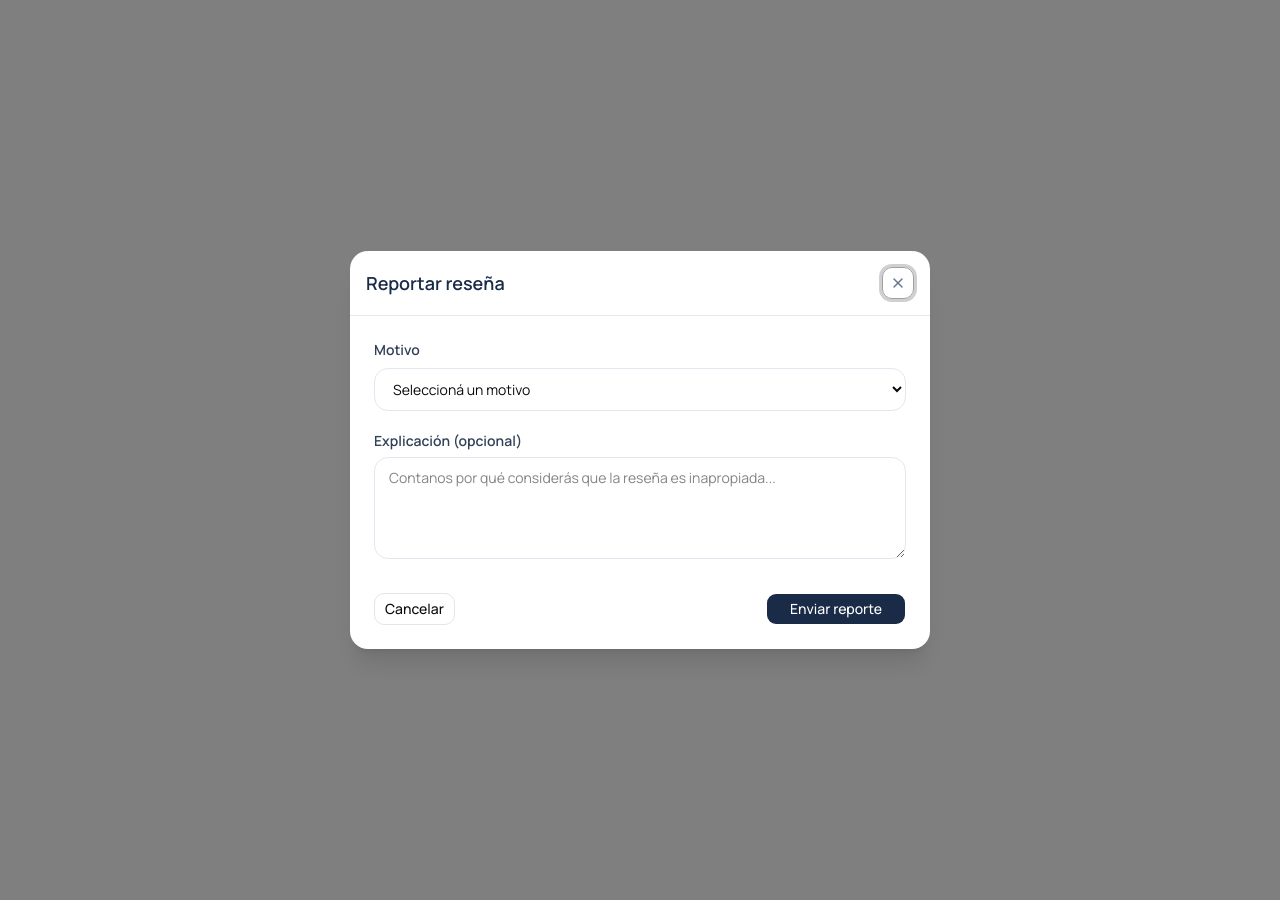
it: ReportReviewModal › should show safe retry feedback for server status 400
Select "Datos personales" in the dropdown labelled "Motivo". click: coordinates (640, 390)
box: 374,368 -> 906,411
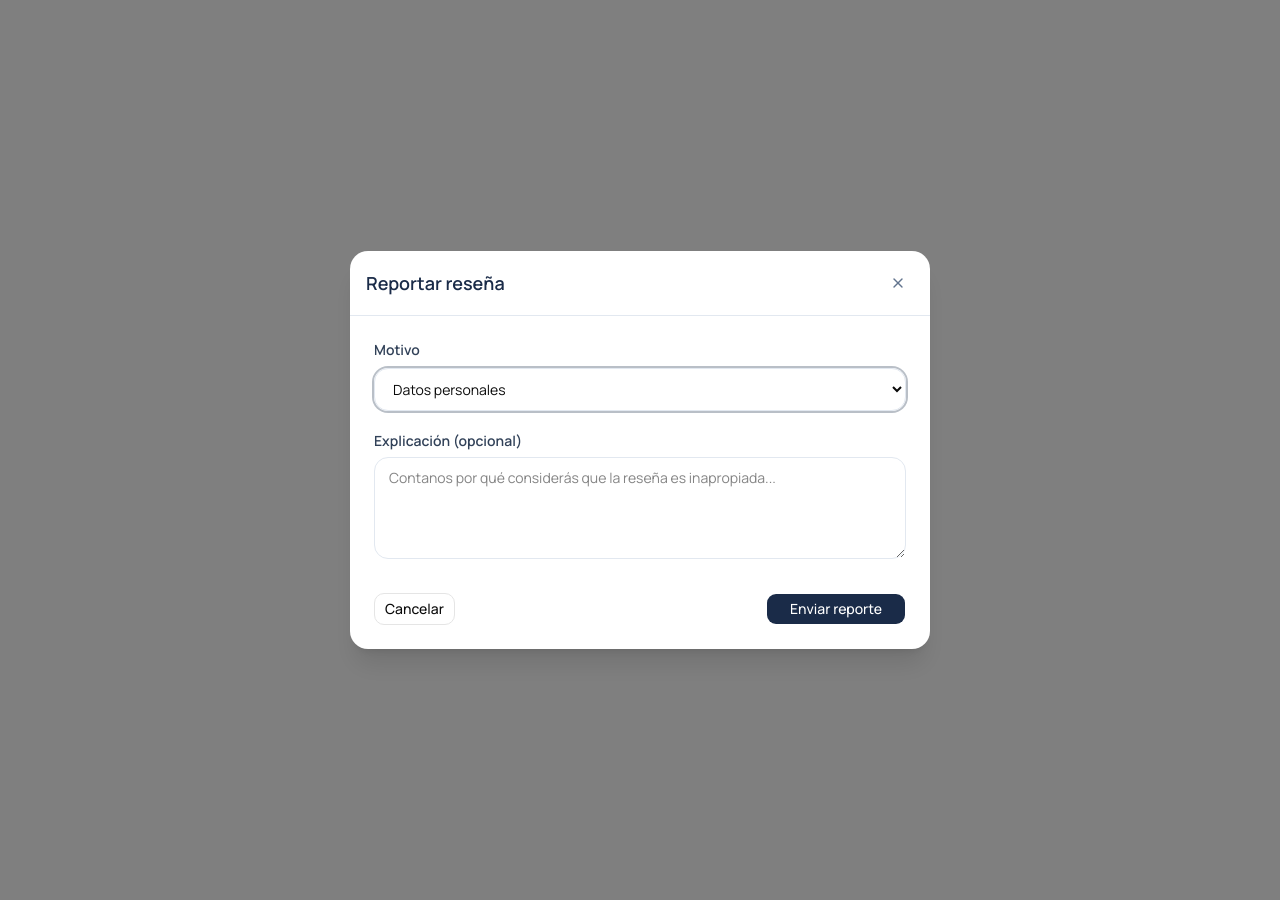
Click the button "Enviar reporte". click: coordinates (836, 609)
box: 766,593 -> 906,625
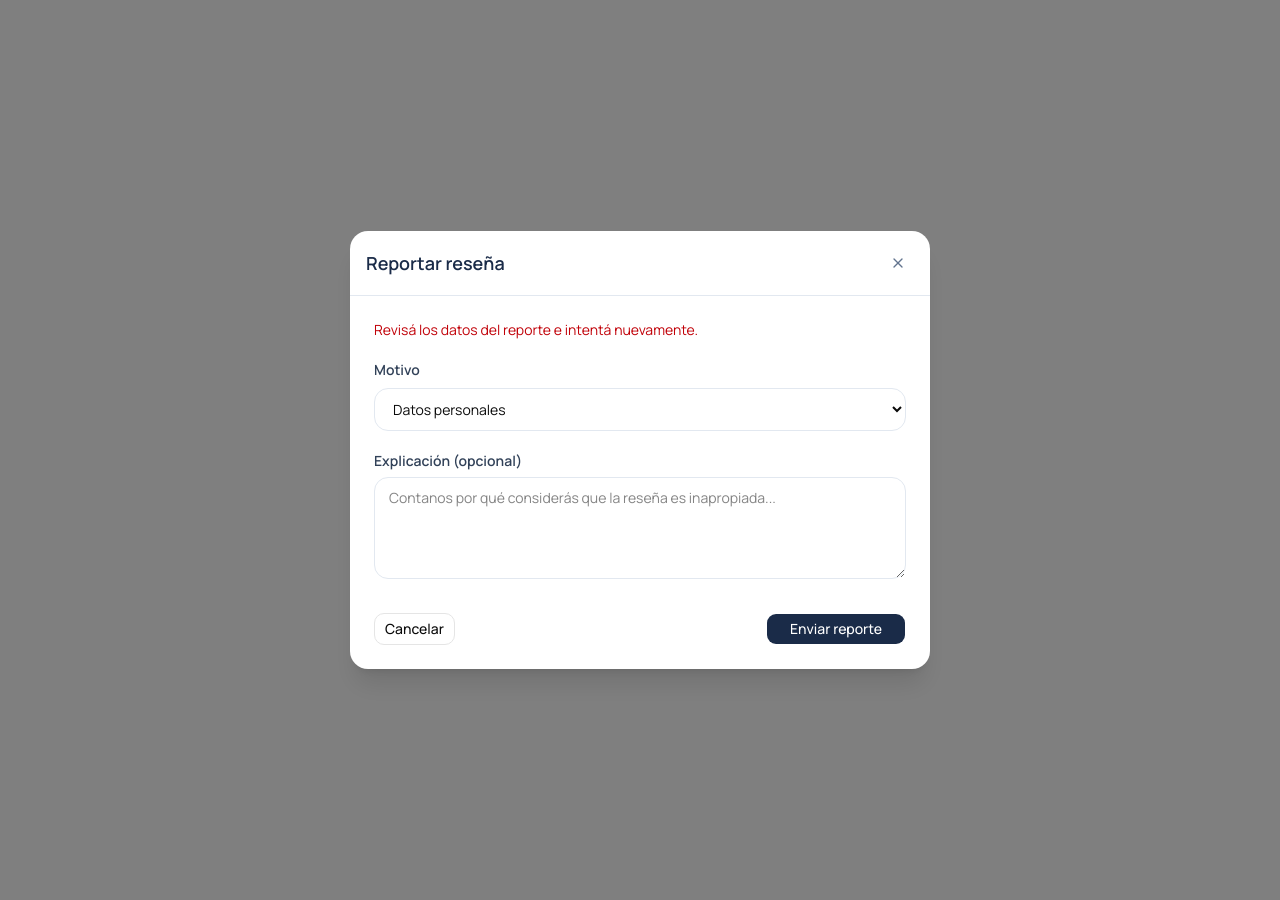
Expected: the button "Enviar reporte" is enabled, 766,613 -> 906,645
Expected: the message reads "Revisá los datos del reporte e intentá nuevamente.", 374,320 -> 698,339
